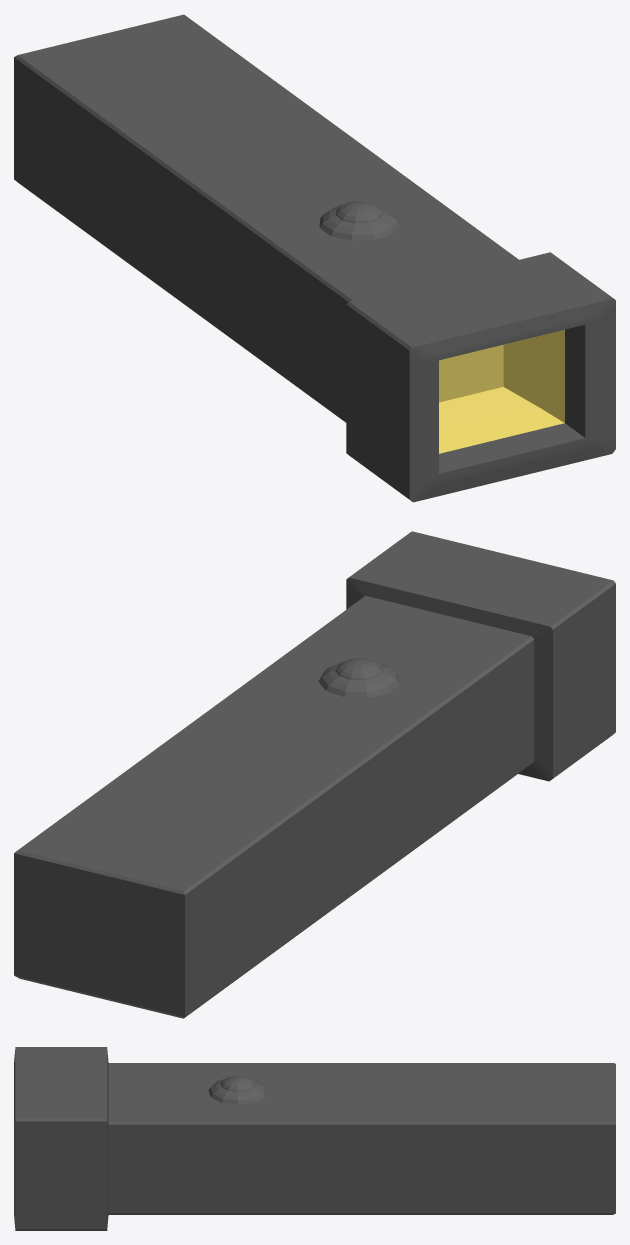
Rendered from FlashLight.fbx.
The picture shows the model from 3 angles, top to bottom: view 1: azimuth 30°, elevation 25°; view 2: azimuth 150°, elevation 25°; view 3: azimuth 270°, elevation 25°; orthographic projection. The views are drawn at different scales.
Visible parts, largest first — view 1: FlashLight; view 2: FlashLight; view 3: FlashLight.
Boxes of the visible parts, <box> form: FlashLight: <box>14,14,615,502</box>; FlashLight: <box>14,531,615,1018</box>; FlashLight: <box>14,1047,615,1230</box>.
Size of the model in its own units: 16.03 by 11.98 by 55.73.
